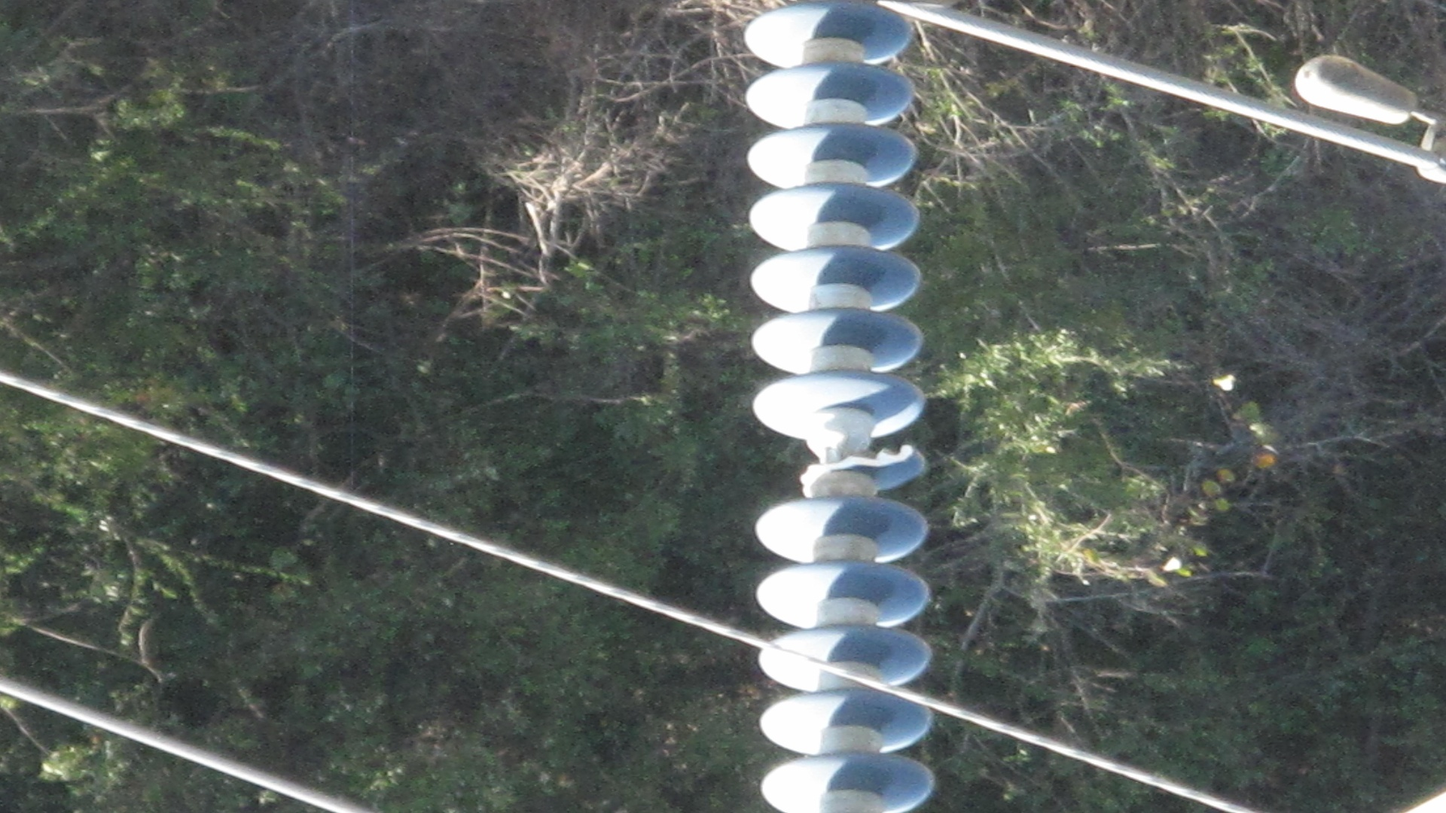insulator: (740, 1, 944, 813)
insulator_breakage: (798, 441, 917, 498)
